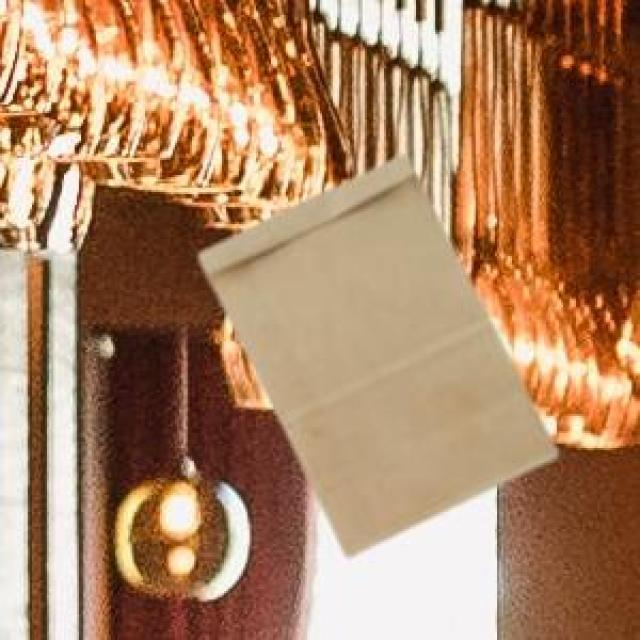paper: (196, 152, 553, 553)
